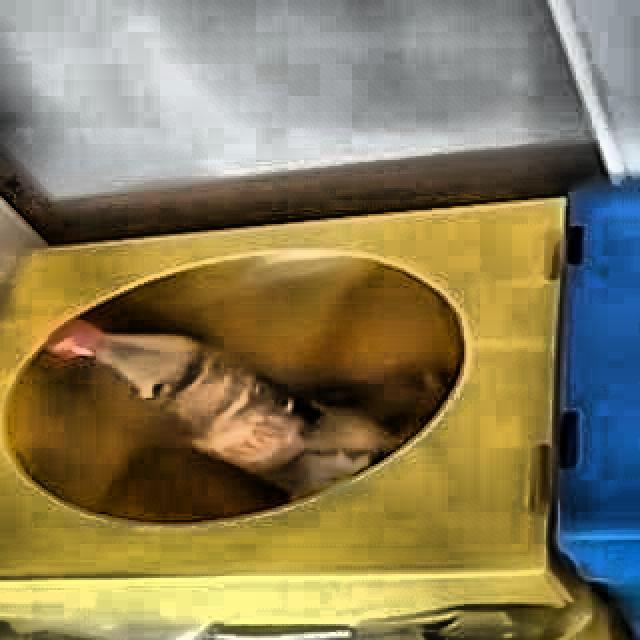plastic: (45, 322, 397, 499)
